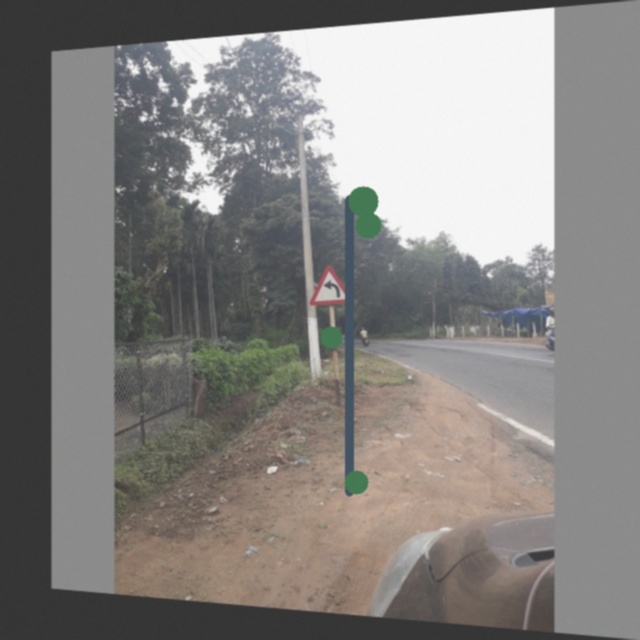Left_Hand_Curve: (310, 261, 350, 304)
